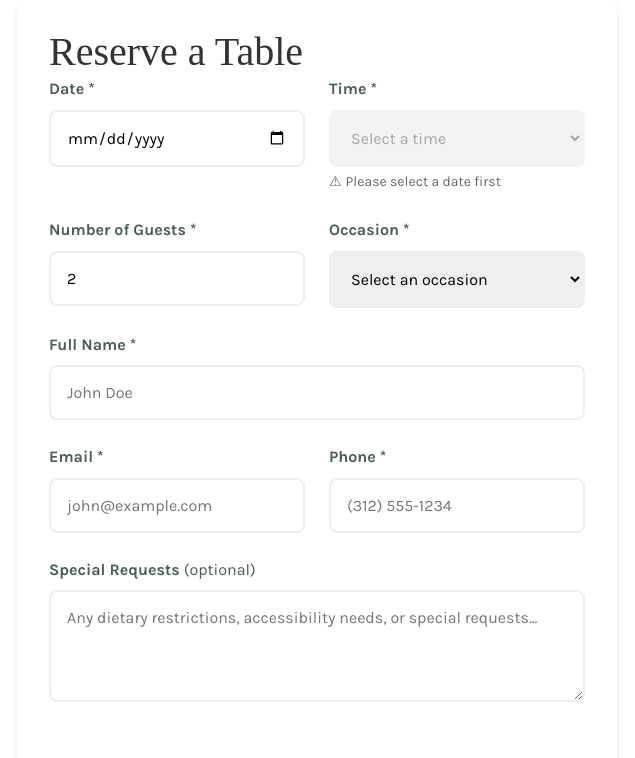
Scenario: BookingForm Component › Validation › shows error for invalid phone number
The width and height of the screenshot is (635, 758).
Type "123" into the field labelled "Phone *".
click(457, 505); type("123")  # box [329,478,585,533]
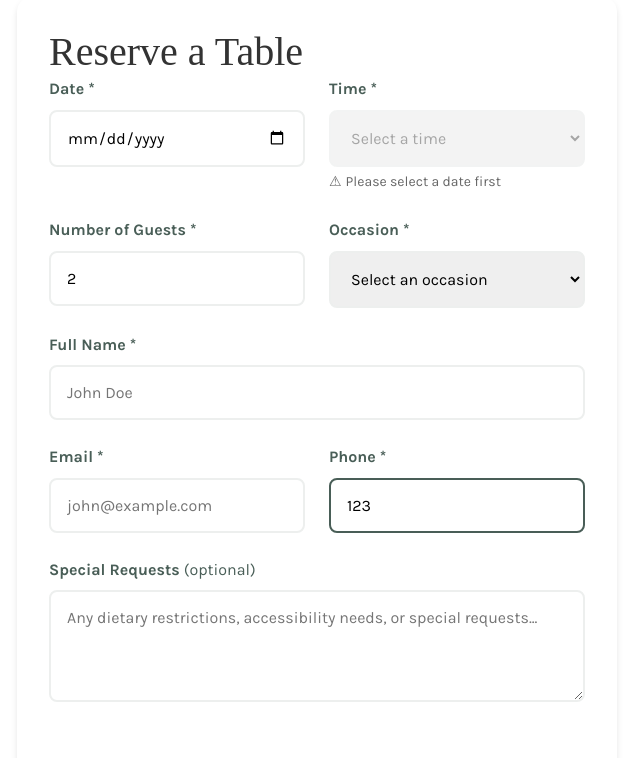
Leave the field labelled "Phone *", box [329,478,585,533]
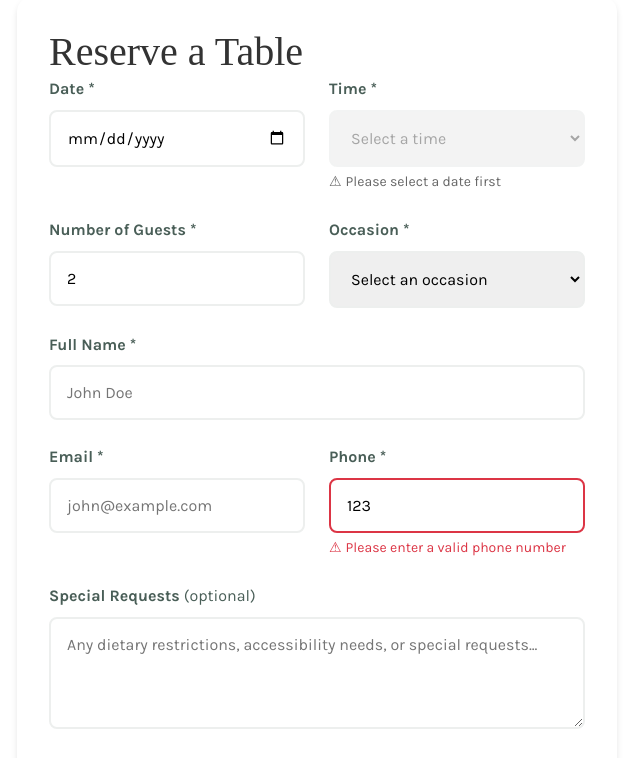
Result: the text "Please enter a valid phone number" is shown at [329,537,585,559]
